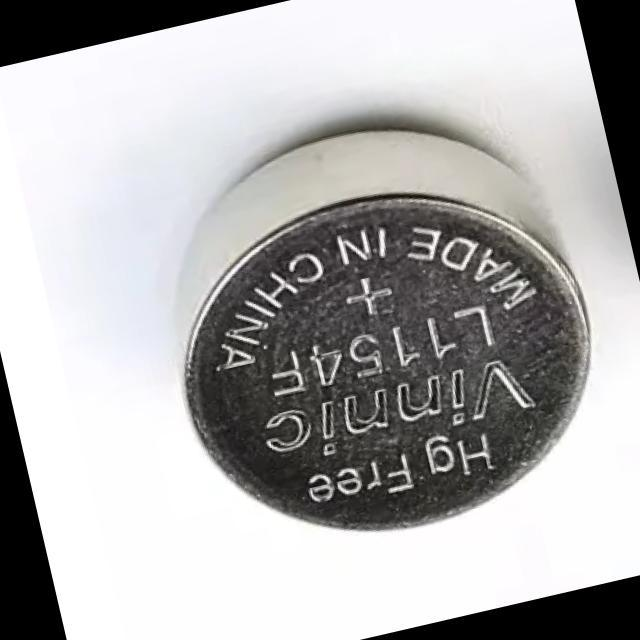COIN: (132, 85, 628, 574)
